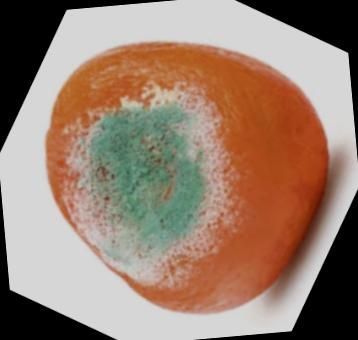Orange Rotten: (19, 18, 346, 336)
